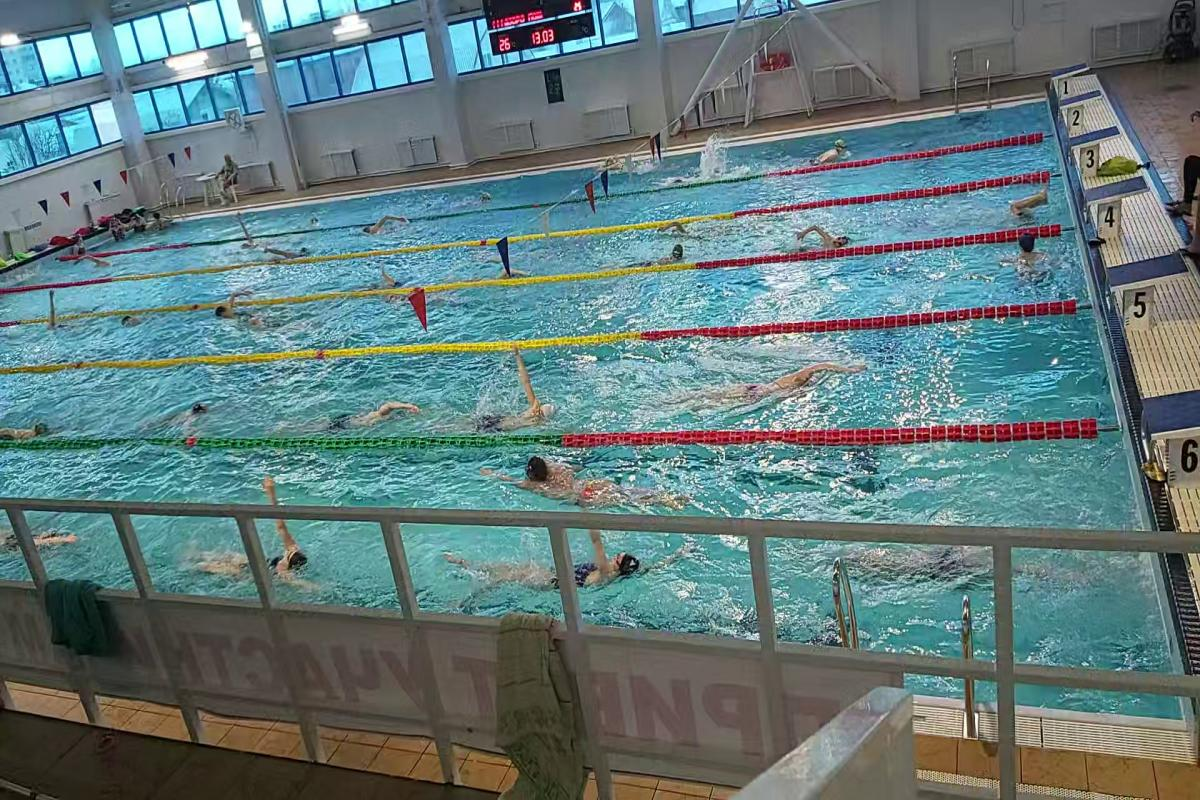swimmer: (449, 536, 675, 594), (484, 448, 673, 514), (687, 355, 867, 416), (485, 352, 567, 432), (268, 524, 330, 596), (300, 399, 426, 431), (207, 290, 287, 334), (138, 398, 220, 434), (1013, 228, 1056, 286), (788, 222, 861, 252), (36, 520, 93, 556), (360, 210, 420, 238), (366, 257, 415, 289), (655, 214, 716, 239), (265, 240, 320, 264), (643, 240, 687, 270), (12, 418, 69, 441)
